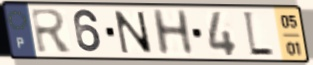4: (206, 10, 239, 58)
6: (72, 8, 104, 56)
H: (149, 8, 197, 58)
L: (241, 9, 276, 59)
N: (112, 9, 156, 56)
R: (29, 7, 75, 55)
